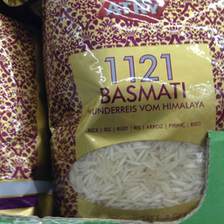rice: (41, 1, 224, 221)
